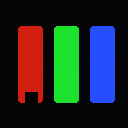1 square: (25, 92, 37, 104)
